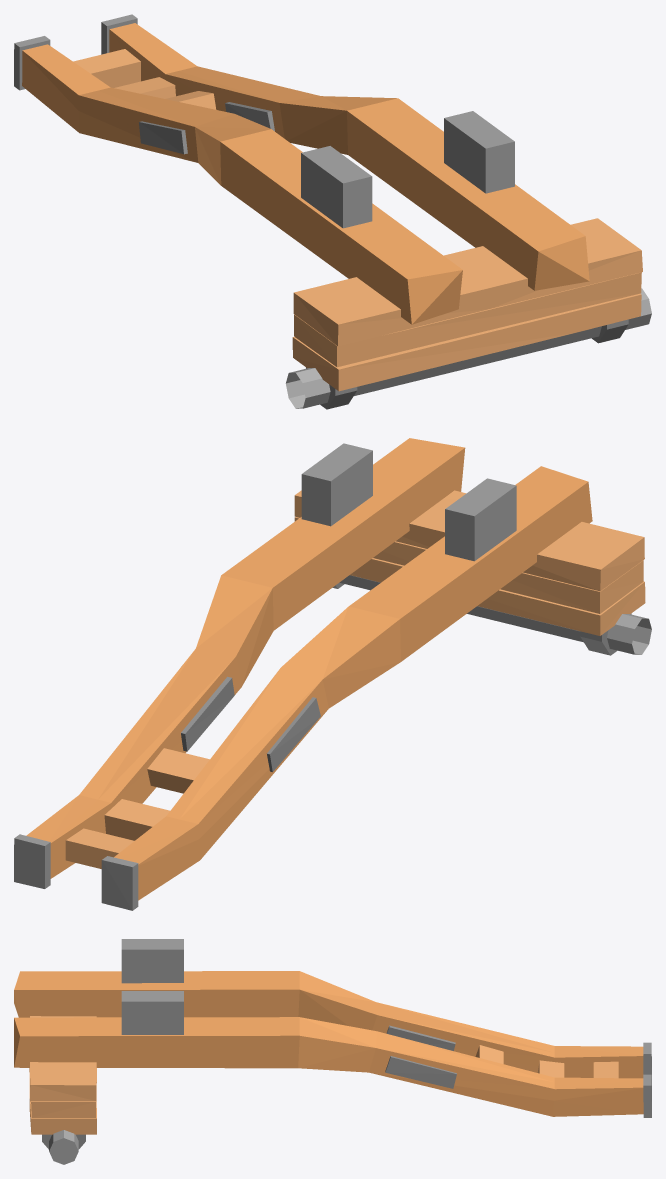
File: cannon.muzzle.03.fbx
3 renders of one model, top to bottom at view 1: azimuth 30°, elevation 25°; view 2: azimuth 150°, elevation 25°; view 3: azimuth 270°, elevation 25°, orthographic. The views are drawn at different scales.
Visible parts, largest first — view 1: cannon.muzzle.03; view 2: cannon.muzzle.03; view 3: cannon.muzzle.03.
Boxes of the visible parts, bbox=[...] form: cannon.muzzle.03: bbox=[14, 14, 651, 409]; cannon.muzzle.03: bbox=[14, 438, 651, 910]; cannon.muzzle.03: bbox=[14, 939, 651, 1164].
Bounding box in the file's own units: 1.56 × 0.7696 × 3.35.
